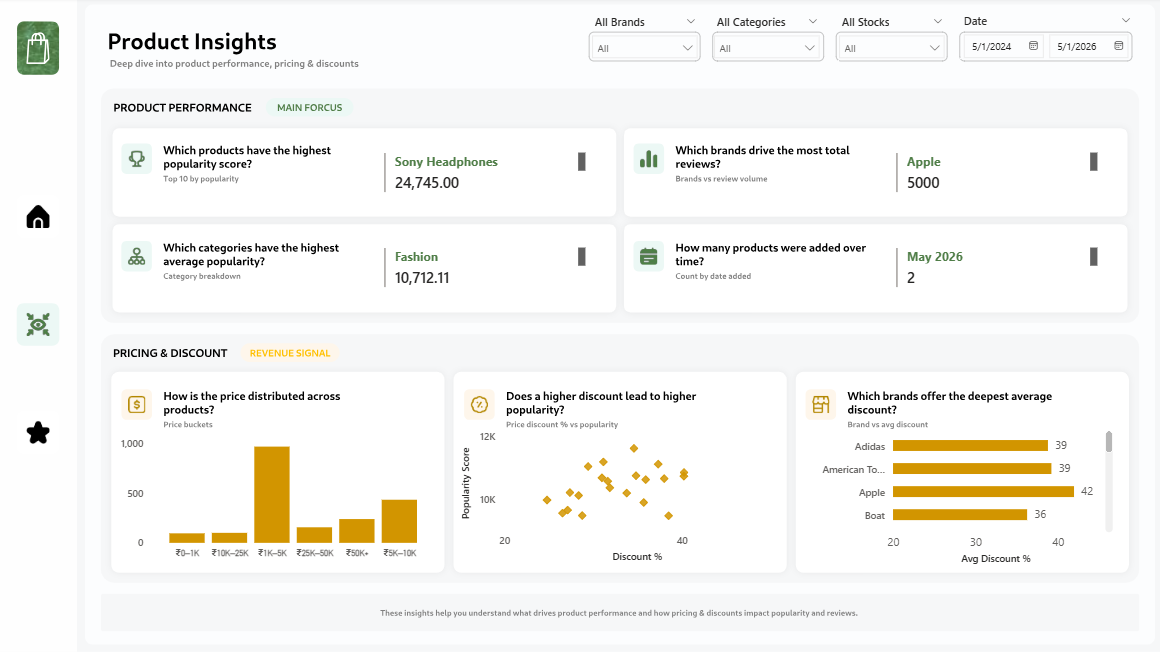

The page's visual inventory and layout, read from the dashboard file:
{"tool":"powerbi","page":{"name":"Insights","canvas":[1280,720],"ordinal":2},"visuals":[{"type":"actionButton","box":[8.8,325.6,67.8,67.8],"z":0},{"type":"actionButton","box":[8.9,205.6,67.8,67.8],"z":1000},{"type":"actionButton","box":[8.8,443.3,67.8,67.8],"z":2000},{"type":"slicer","fields":{"Values":["Products.brand"]},"box":[641.7,14.3,136.4,61.1],"z":3000},{"type":"slicer","fields":{"Values":["Products.category"]},"box":[776.8,14.3,136.4,61.1],"z":4000},{"type":"slicer","fields":{"Values":["Products.stock_status"]},"box":[913.3,14.3,136.4,61.1],"z":5000},{"type":"slicer","fields":{"Values":["Date Table.Date"]},"box":[1047.8,13.3,208.9,61.1],"z":6000},{"type":"multiRowCard","fields":{"Values":["Products.product_name","Products.Max Popularity Score"]},"box":[417.8,166.5,232.2,56.7],"z":7000},{"type":"multiRowCard","fields":{"Values":["Products.brand","Max(Products.reviews_count)"]},"box":[981.1,166.5,232.2,56.7],"z":8000},{"type":"multiRowCard","fields":{"Values":["Products.category","Avg(Products.popularity_score)"]},"box":[417.8,270,232.2,56.7],"z":9000},{"type":"multiRowCard","fields":{"Values":["Products.Products Added","Date Table.Month Year"]},"box":[981.1,270,232.2,56.7],"z":10000},{"type":"columnChart","fields":{"Category":["Products.Price Bucket"],"Y":["CountNonNull(Products.product_name)"]},"box":[128.9,477.8,355.6,150],"z":11000},{"type":"scatterChart","fields":{"X":["Products.High Discount Products %"],"Y":["Avg(Products.popularity_score)"],"Category":["Products.product_name"]},"box":[503.3,470,356.7,157.8],"z":12000},{"type":"clusteredBarChart","fields":{"Category":["Products.brand"],"Y":["Avg(Products.discount_percent)"]},"box":[884.4,464.4,345.6,165.6],"z":13000}]}

Visuals, with their boxes on the page's 1280x720 design canvas (x1, y1, x2, y2). These are canvas units, not pixel positions in the 1160x652 screenshot, which may show the page scaled, cropped or inside an application window:
actionButton: l=9, t=326, r=77, b=393
actionButton: l=9, t=206, r=77, b=273
actionButton: l=9, t=443, r=77, b=511
slicer - Products.brand: l=642, t=14, r=778, b=75
slicer - Products.category: l=777, t=14, r=913, b=75
slicer - Products.stock_status: l=913, t=14, r=1050, b=75
slicer - Date Table.Date: l=1048, t=13, r=1257, b=74
multiRowCard - Products.product_name x Products.Max Popularity Score: l=418, t=166, r=650, b=223
multiRowCard - Products.brand x Max(Products.reviews_count): l=981, t=166, r=1213, b=223
multiRowCard - Products.category x Avg(Products.popularity_score): l=418, t=270, r=650, b=327
multiRowCard - Products.Products Added x Date Table.Month Year: l=981, t=270, r=1213, b=327
columnChart - Products.Price Bucket x CountNonNull(Products.product_name): l=129, t=478, r=484, b=628
scatterChart - Products.High Discount Products % x Avg(Products.popularity_score): l=503, t=470, r=860, b=628
clusteredBarChart - Products.brand x Avg(Products.discount_percent): l=884, t=464, r=1230, b=630
